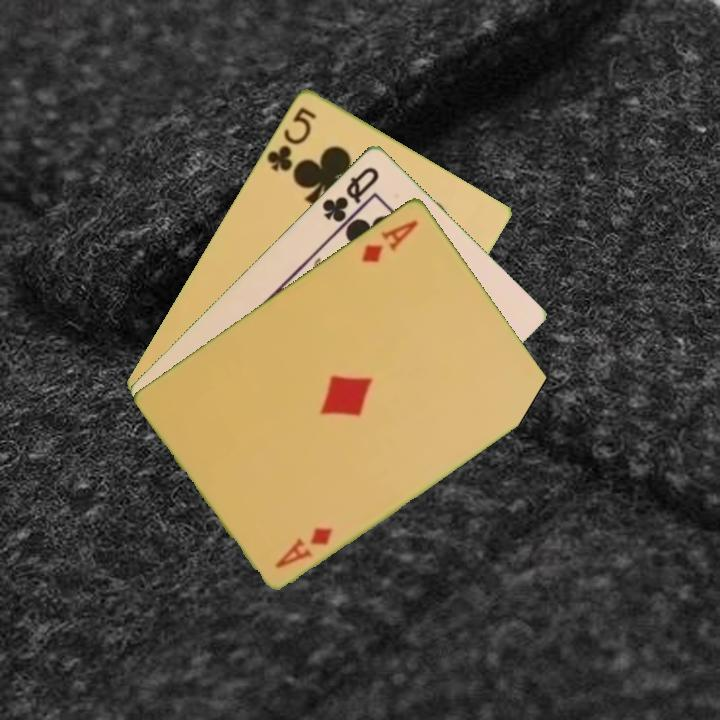5c: (262, 103, 319, 174)
Ad: (358, 215, 421, 265), (271, 523, 336, 571)
Qc: (318, 162, 382, 225)
